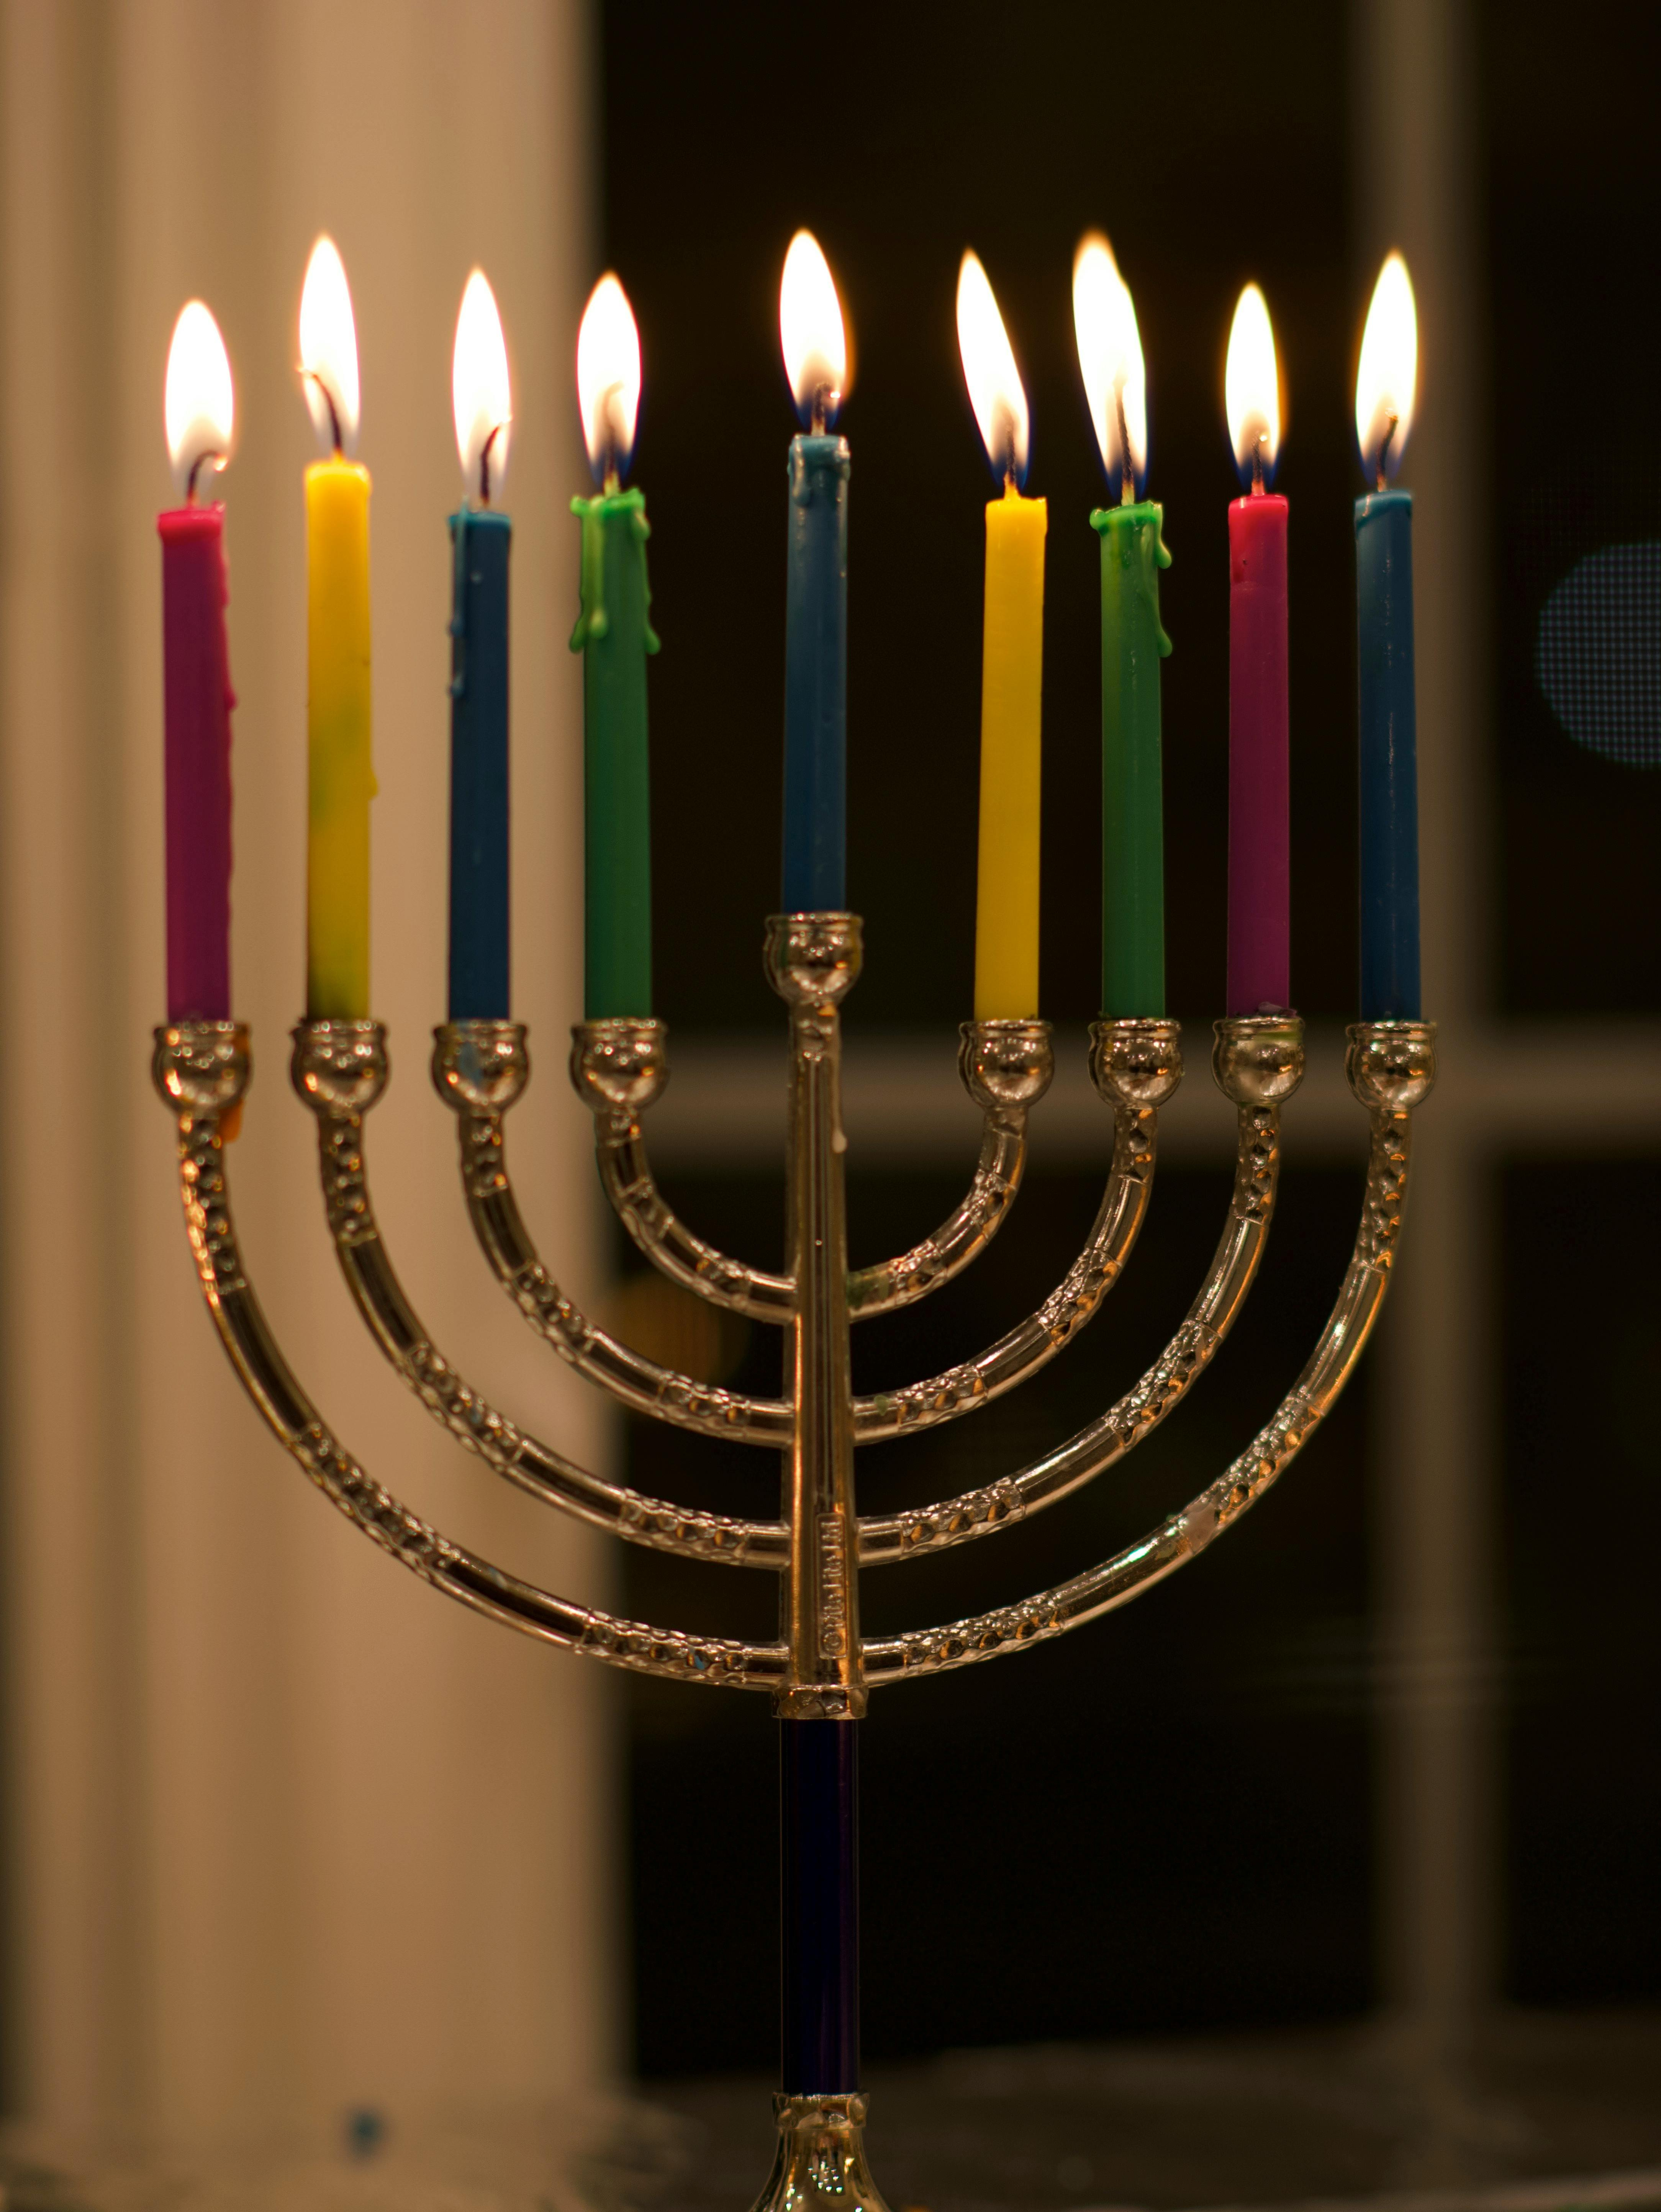Fire: (1054, 195, 1172, 488), (932, 215, 1038, 495), (272, 223, 386, 455), (762, 208, 879, 426), (434, 253, 532, 492), (560, 262, 665, 476), (1211, 253, 1310, 476), (150, 281, 255, 492), (1345, 248, 1434, 480)
